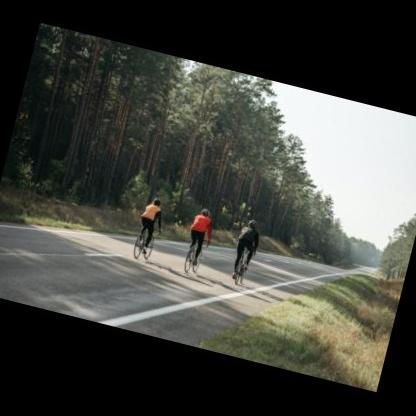Bicycle: (176, 228, 217, 279), (124, 213, 165, 264), (226, 240, 258, 292)
